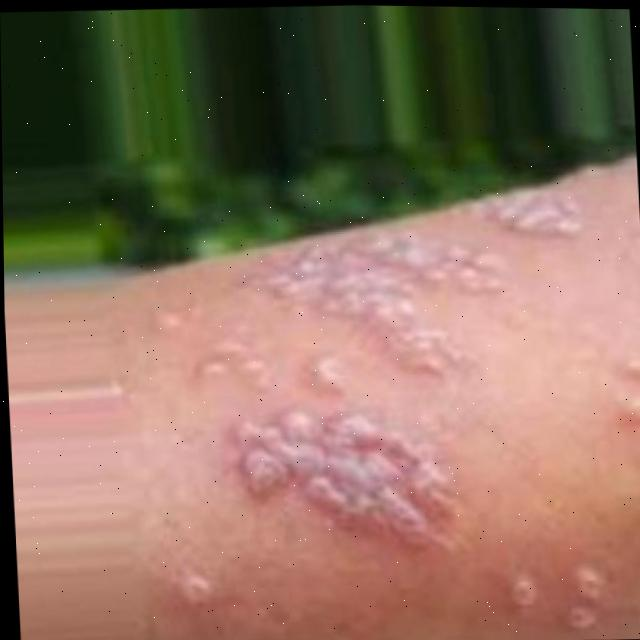Shingles: (143, 220, 513, 407), (230, 401, 466, 575), (502, 564, 609, 635), (476, 184, 587, 245), (173, 566, 218, 603)
